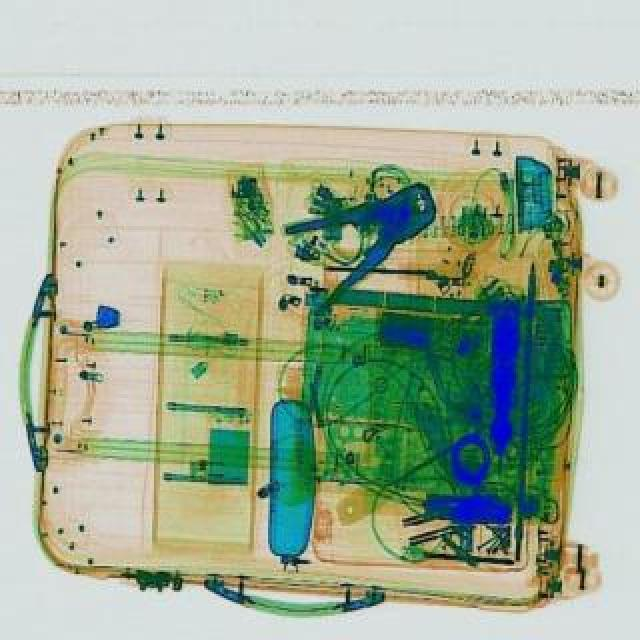wrench: (270, 170, 460, 316)
